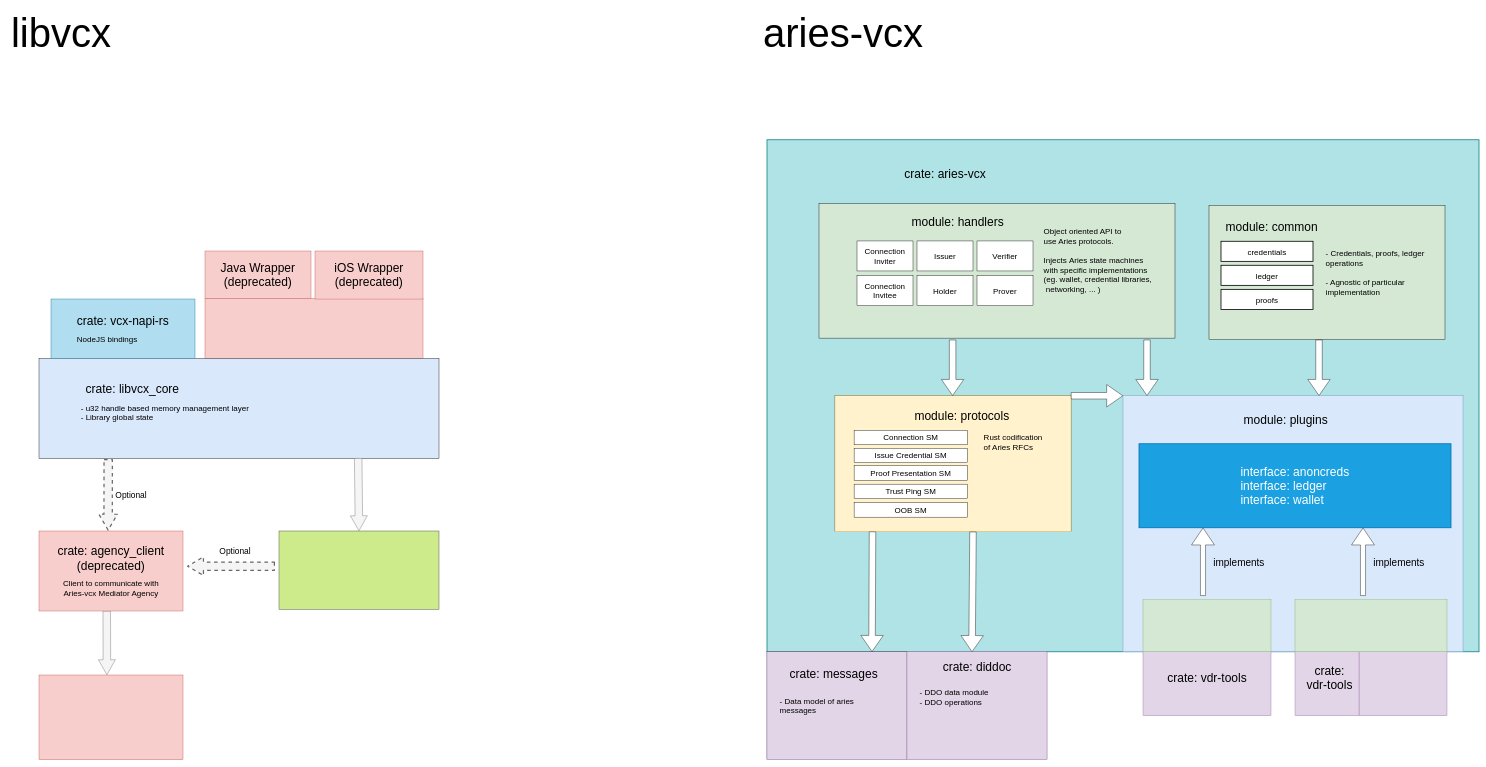
This 1486x767 diagram has some shape labels left out. Here are the shapes that lost their labels. From the top down, the centre of each, then its label:
At point (314, 328): "crate: libvcx (deprecated) - Task Execution Runtime - C FFI Api".
At point (359, 570): "crate: aries-vcx Rust implementation of Aries protocols".
At point (1207, 625): "indy".
At point (1371, 625): "modular libs".
At point (1403, 683): "crate: indy-shared-rs".
At point (111, 717): "vcxagency-node (deprecated) - Web service to mediate aries messages".
